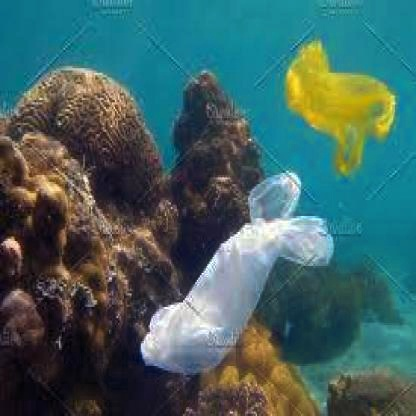pbag: (139, 170, 336, 380), (283, 36, 399, 178)
